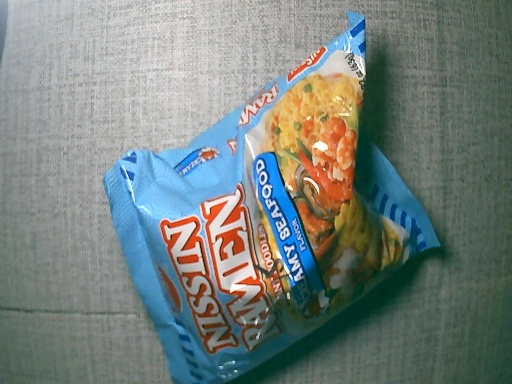plastic: (103, 12, 441, 384)
